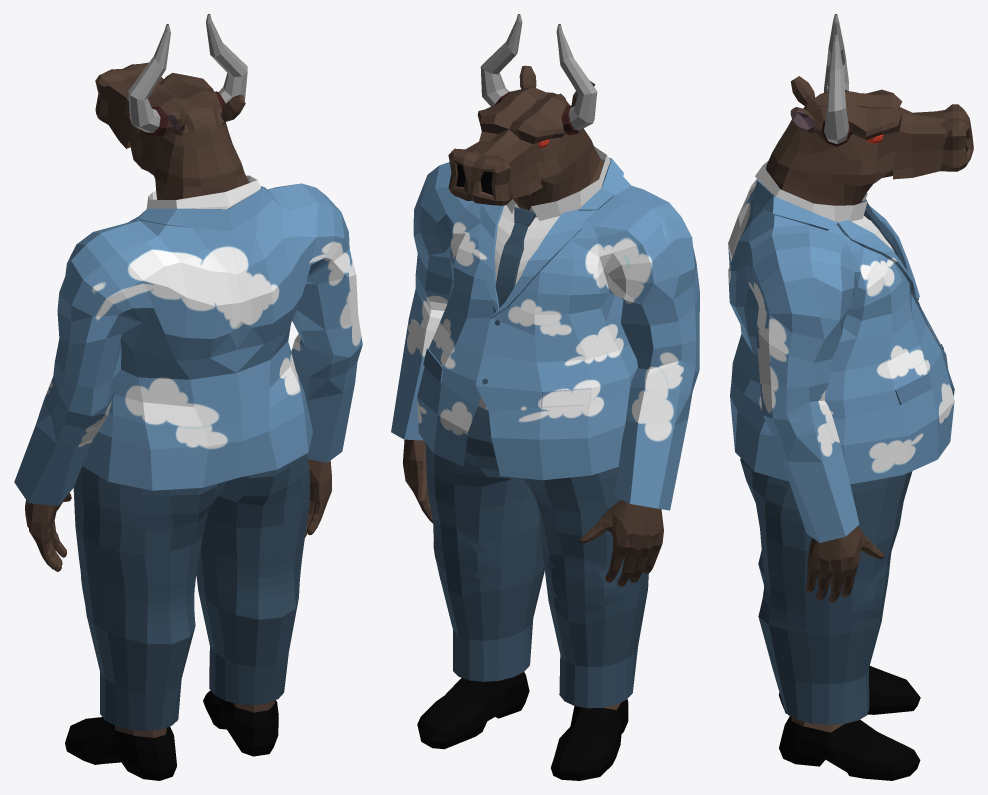
The model's file is oxhead2.obj.
3 renders of one model, left to right at view 1: azimuth 30°, elevation 25°; view 2: azimuth 150°, elevation 25°; view 3: azimuth 270°, elevation 25°, orthographic. The views are drawn at different scales.
Visible parts, largest first — view 1: Plane.003; view 2: Plane.003; view 3: Plane.003.
Part boxes in pixels (bbox=[...]): Plane.003: bbox=[14, 14, 362, 780]; Plane.003: bbox=[391, 14, 699, 780]; Plane.003: bbox=[728, 14, 973, 780].
Size of the model in its own units: 0.7732 by 1.83 by 0.5732.
Materials: 3 (2 with a texture image).
